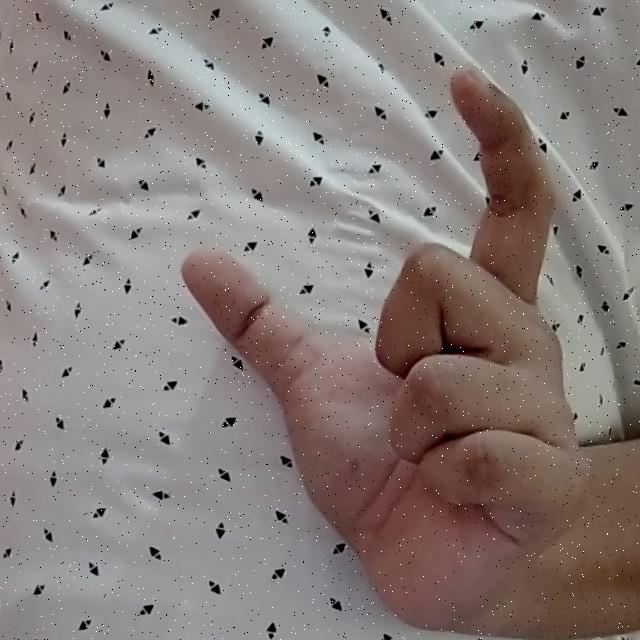U: (170, 52, 598, 631)
